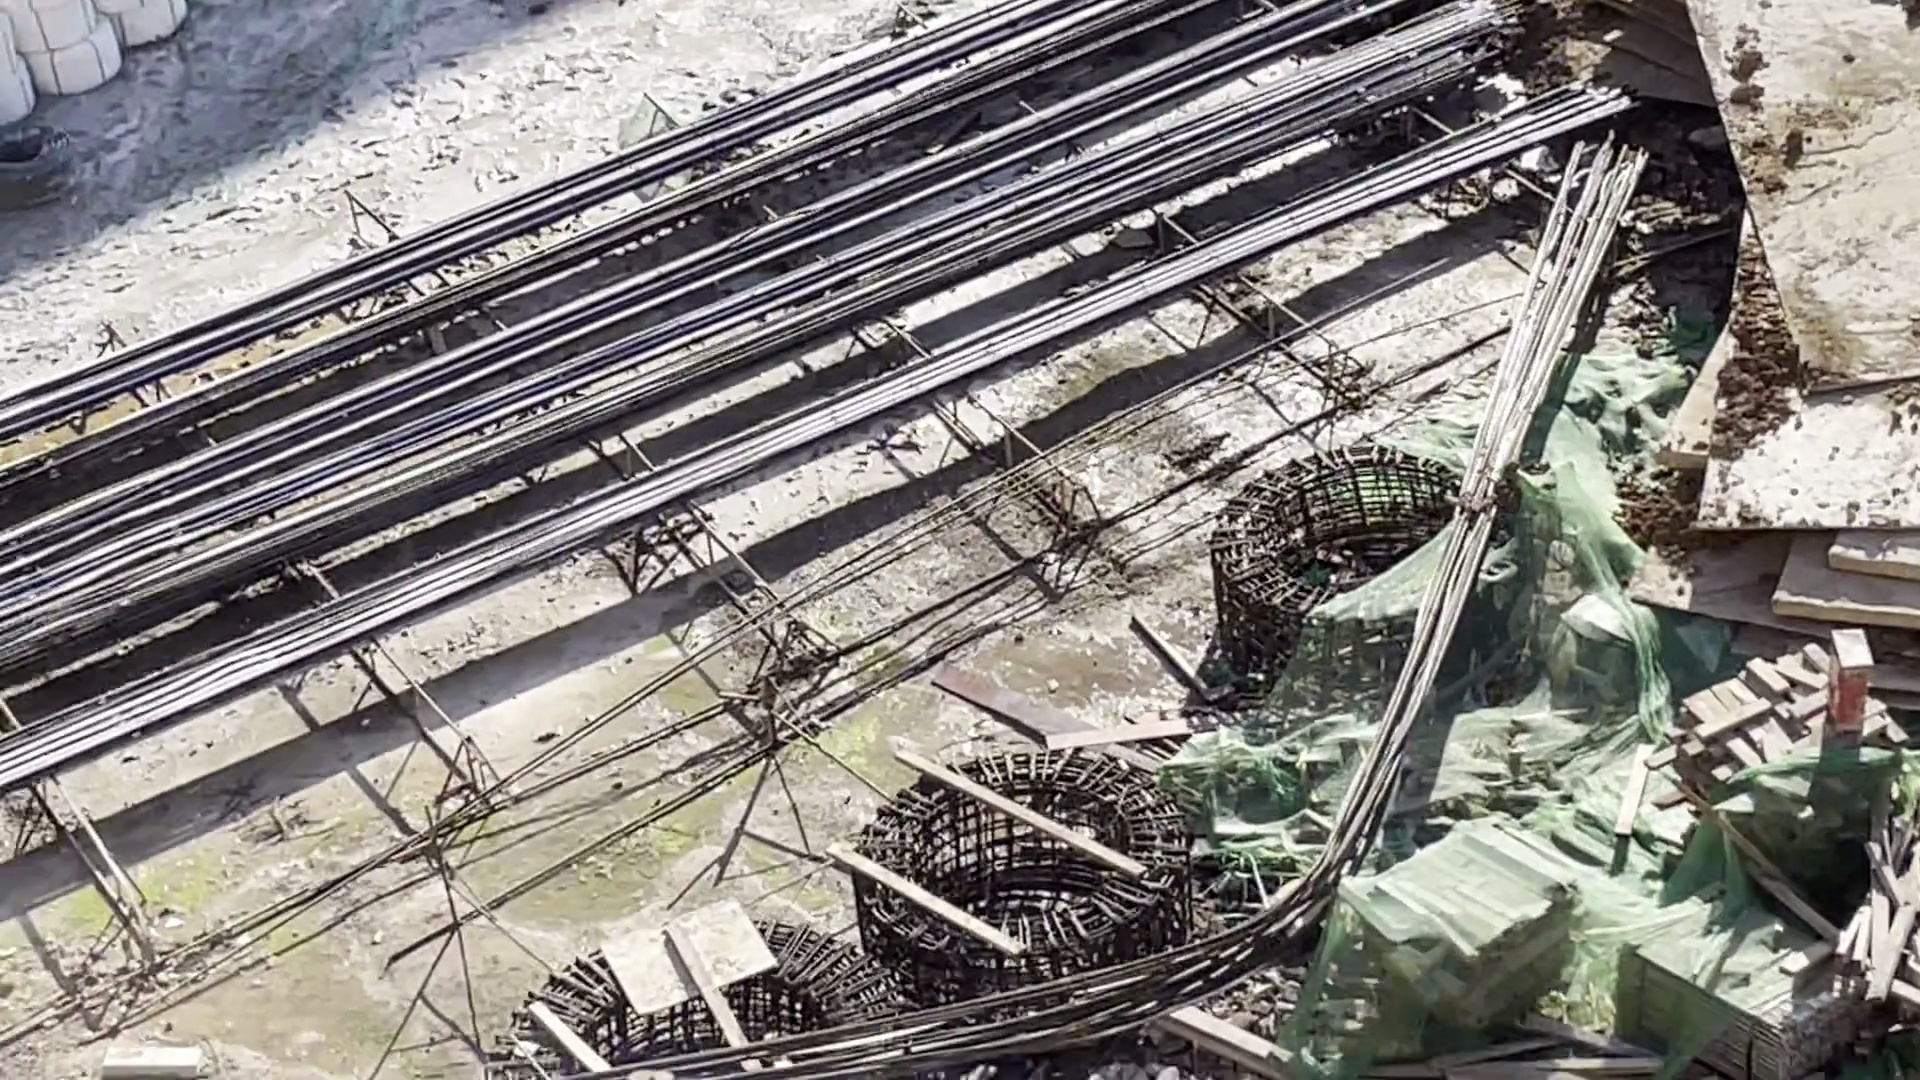board: (1669, 1, 1920, 618)
rebar: (1, 1, 1647, 767)
wood: (1631, 898, 1865, 1080)
